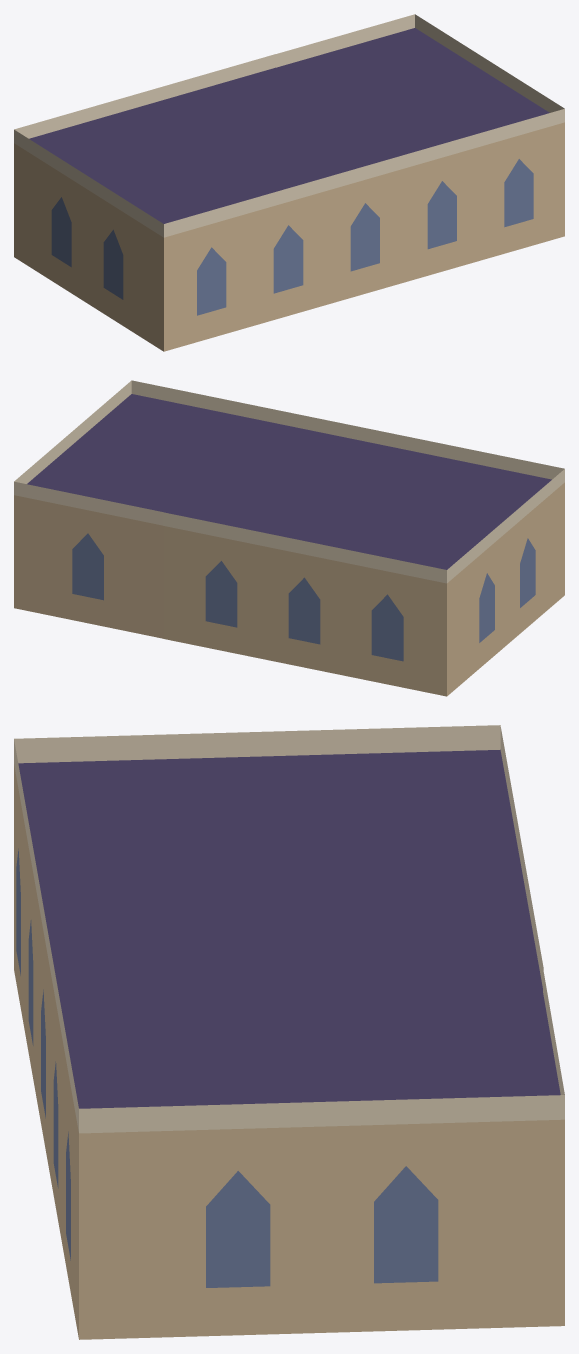
File: b-125-day.glb
3 views of the same model, one above another, from view 1: azimuth 30°, elevation 25°; view 2: azimuth 150°, elevation 25°; view 3: azimuth 270°, elevation 25° (orthographic). The views are drawn at different scales.
Visible parts, largest first — view 1: campus/b-125-day-0; view 2: campus/b-125-day-0; view 3: campus/b-125-day-0.
Boxes of the visible parts, x1=… form: campus/b-125-day-0: x1=14, y1=14, x2=564, y2=351; campus/b-125-day-0: x1=14, y1=380, x2=564, y2=696; campus/b-125-day-0: x1=14, y1=725, x2=564, y2=1339.
Bounding box in the file's own units: 18.34 × 5.15 × 11.13.
